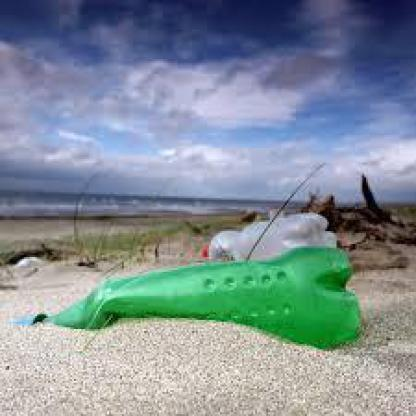Plastic: (19, 245, 362, 341), (198, 211, 337, 267)
